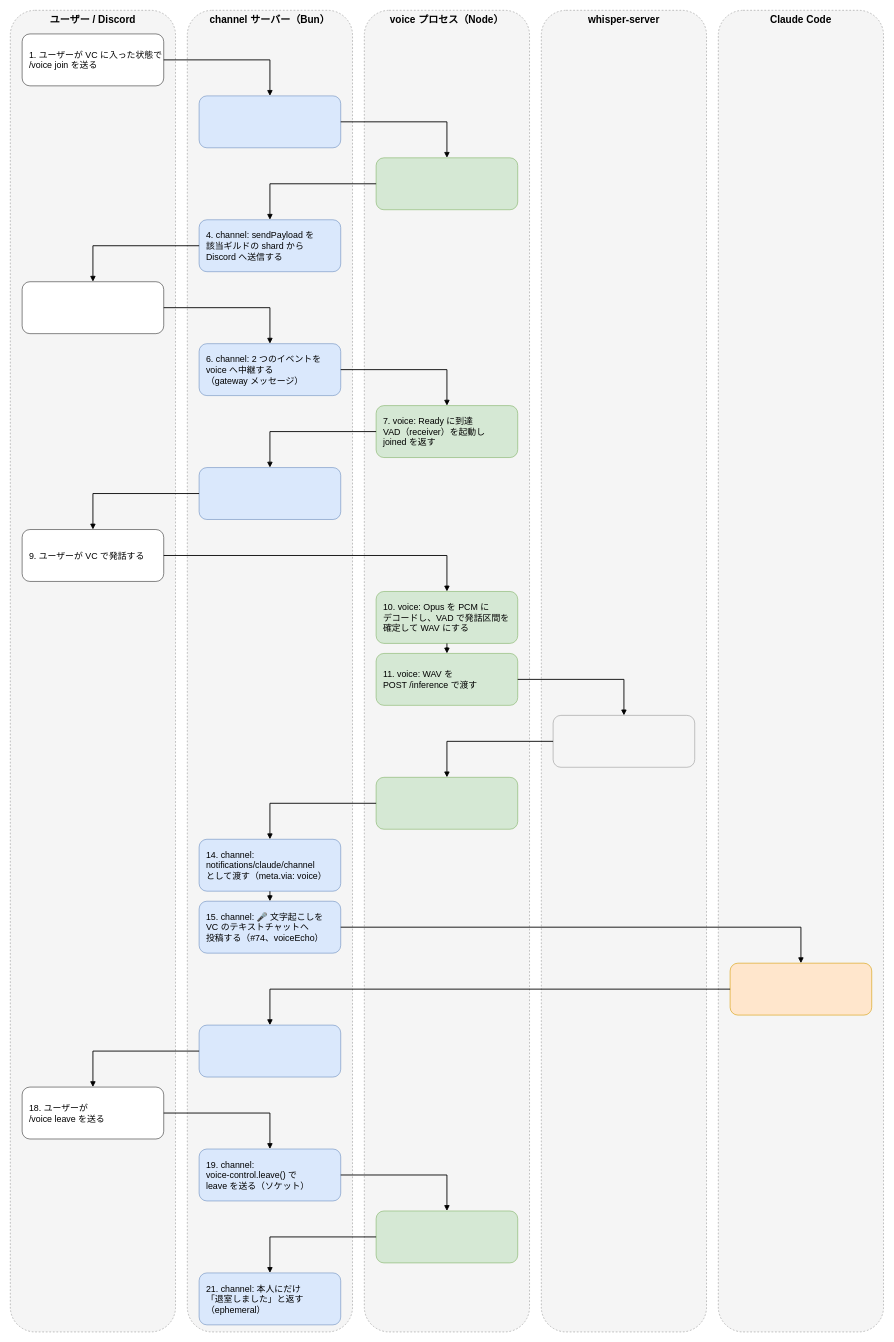
This 894x1342 diagram has some shape labels left out. The shapes that lost their labels are listed below. From the top down, each one's centre as x and y in pixels, then its label:
[270,121]: 2. channel: allowFrom を確認し voice-control.join() で join を送る（ソケット）
[447,183]: 3. voice: joinVoiceChannel() を呼ぶ adapterCreator が sendPayload（op 4）を返す
[93,307]: 5. Discord: VOICE_STATE_UPDATE / VOICE_SERVER_UPDATE を Gateway で返す
[270,493]: 8. channel: 本人にだけ 「〇〇に入りました」と返す （ephemeral）
[624,741]: 12. whisper-server: 文字起こしした text を返す
[447,803]: 13. voice: transcript を channel へ送る（ソケット）
[801,989]: 16. Claude Code: 文字起こしを受け取り reply ツールを呼ぶ
[270,1051]: 17. channel: reply を VC のテキストチャットに 投稿する
[447,1236]: 20. voice: 接続を破棄し VAD（receiver）を止めて left を返す
